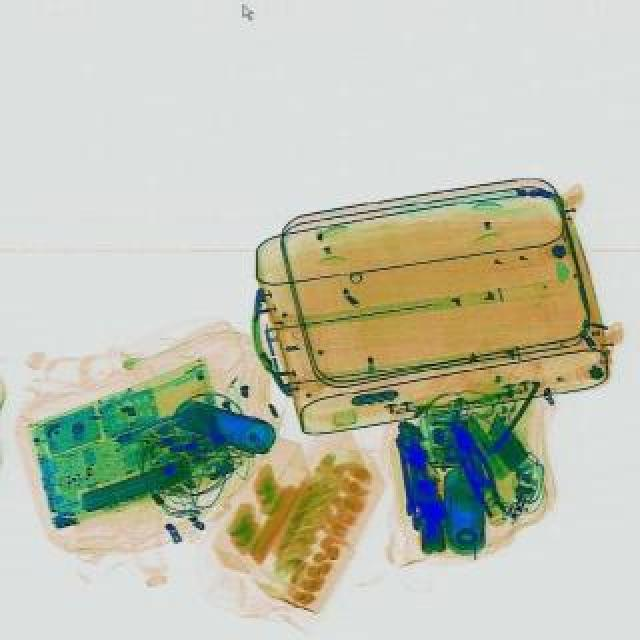wrench: (442, 422, 510, 522)
